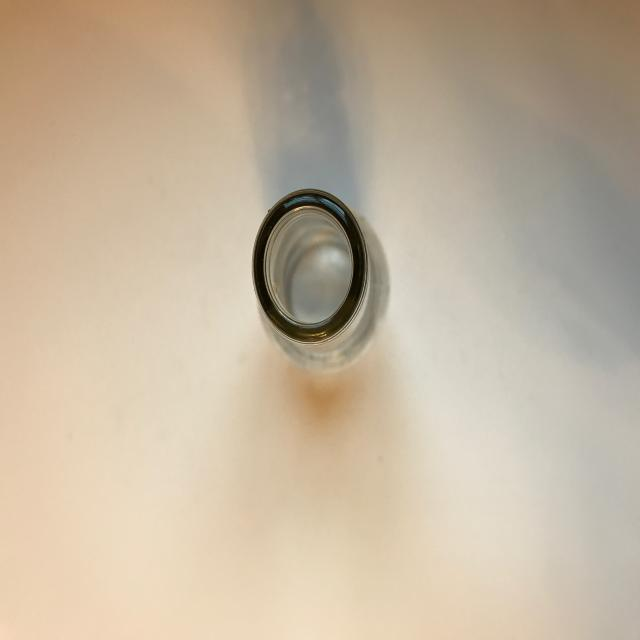glass: (250, 186, 383, 370)
